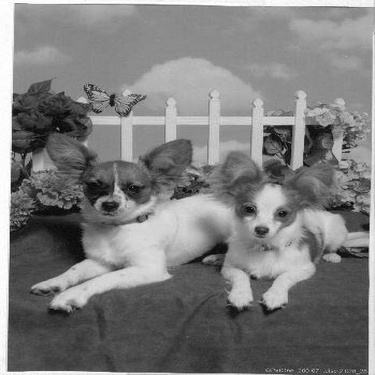dog: (32, 123, 246, 316), (201, 150, 349, 317)
